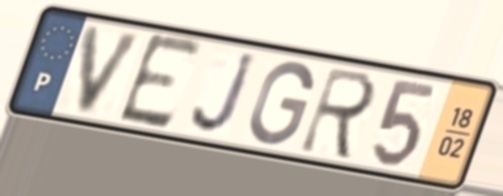5: (365, 77, 443, 170)
E: (113, 29, 208, 134)
G: (245, 59, 317, 149)
J: (188, 49, 261, 138)
R: (295, 63, 381, 164)
V: (75, 22, 149, 119)
